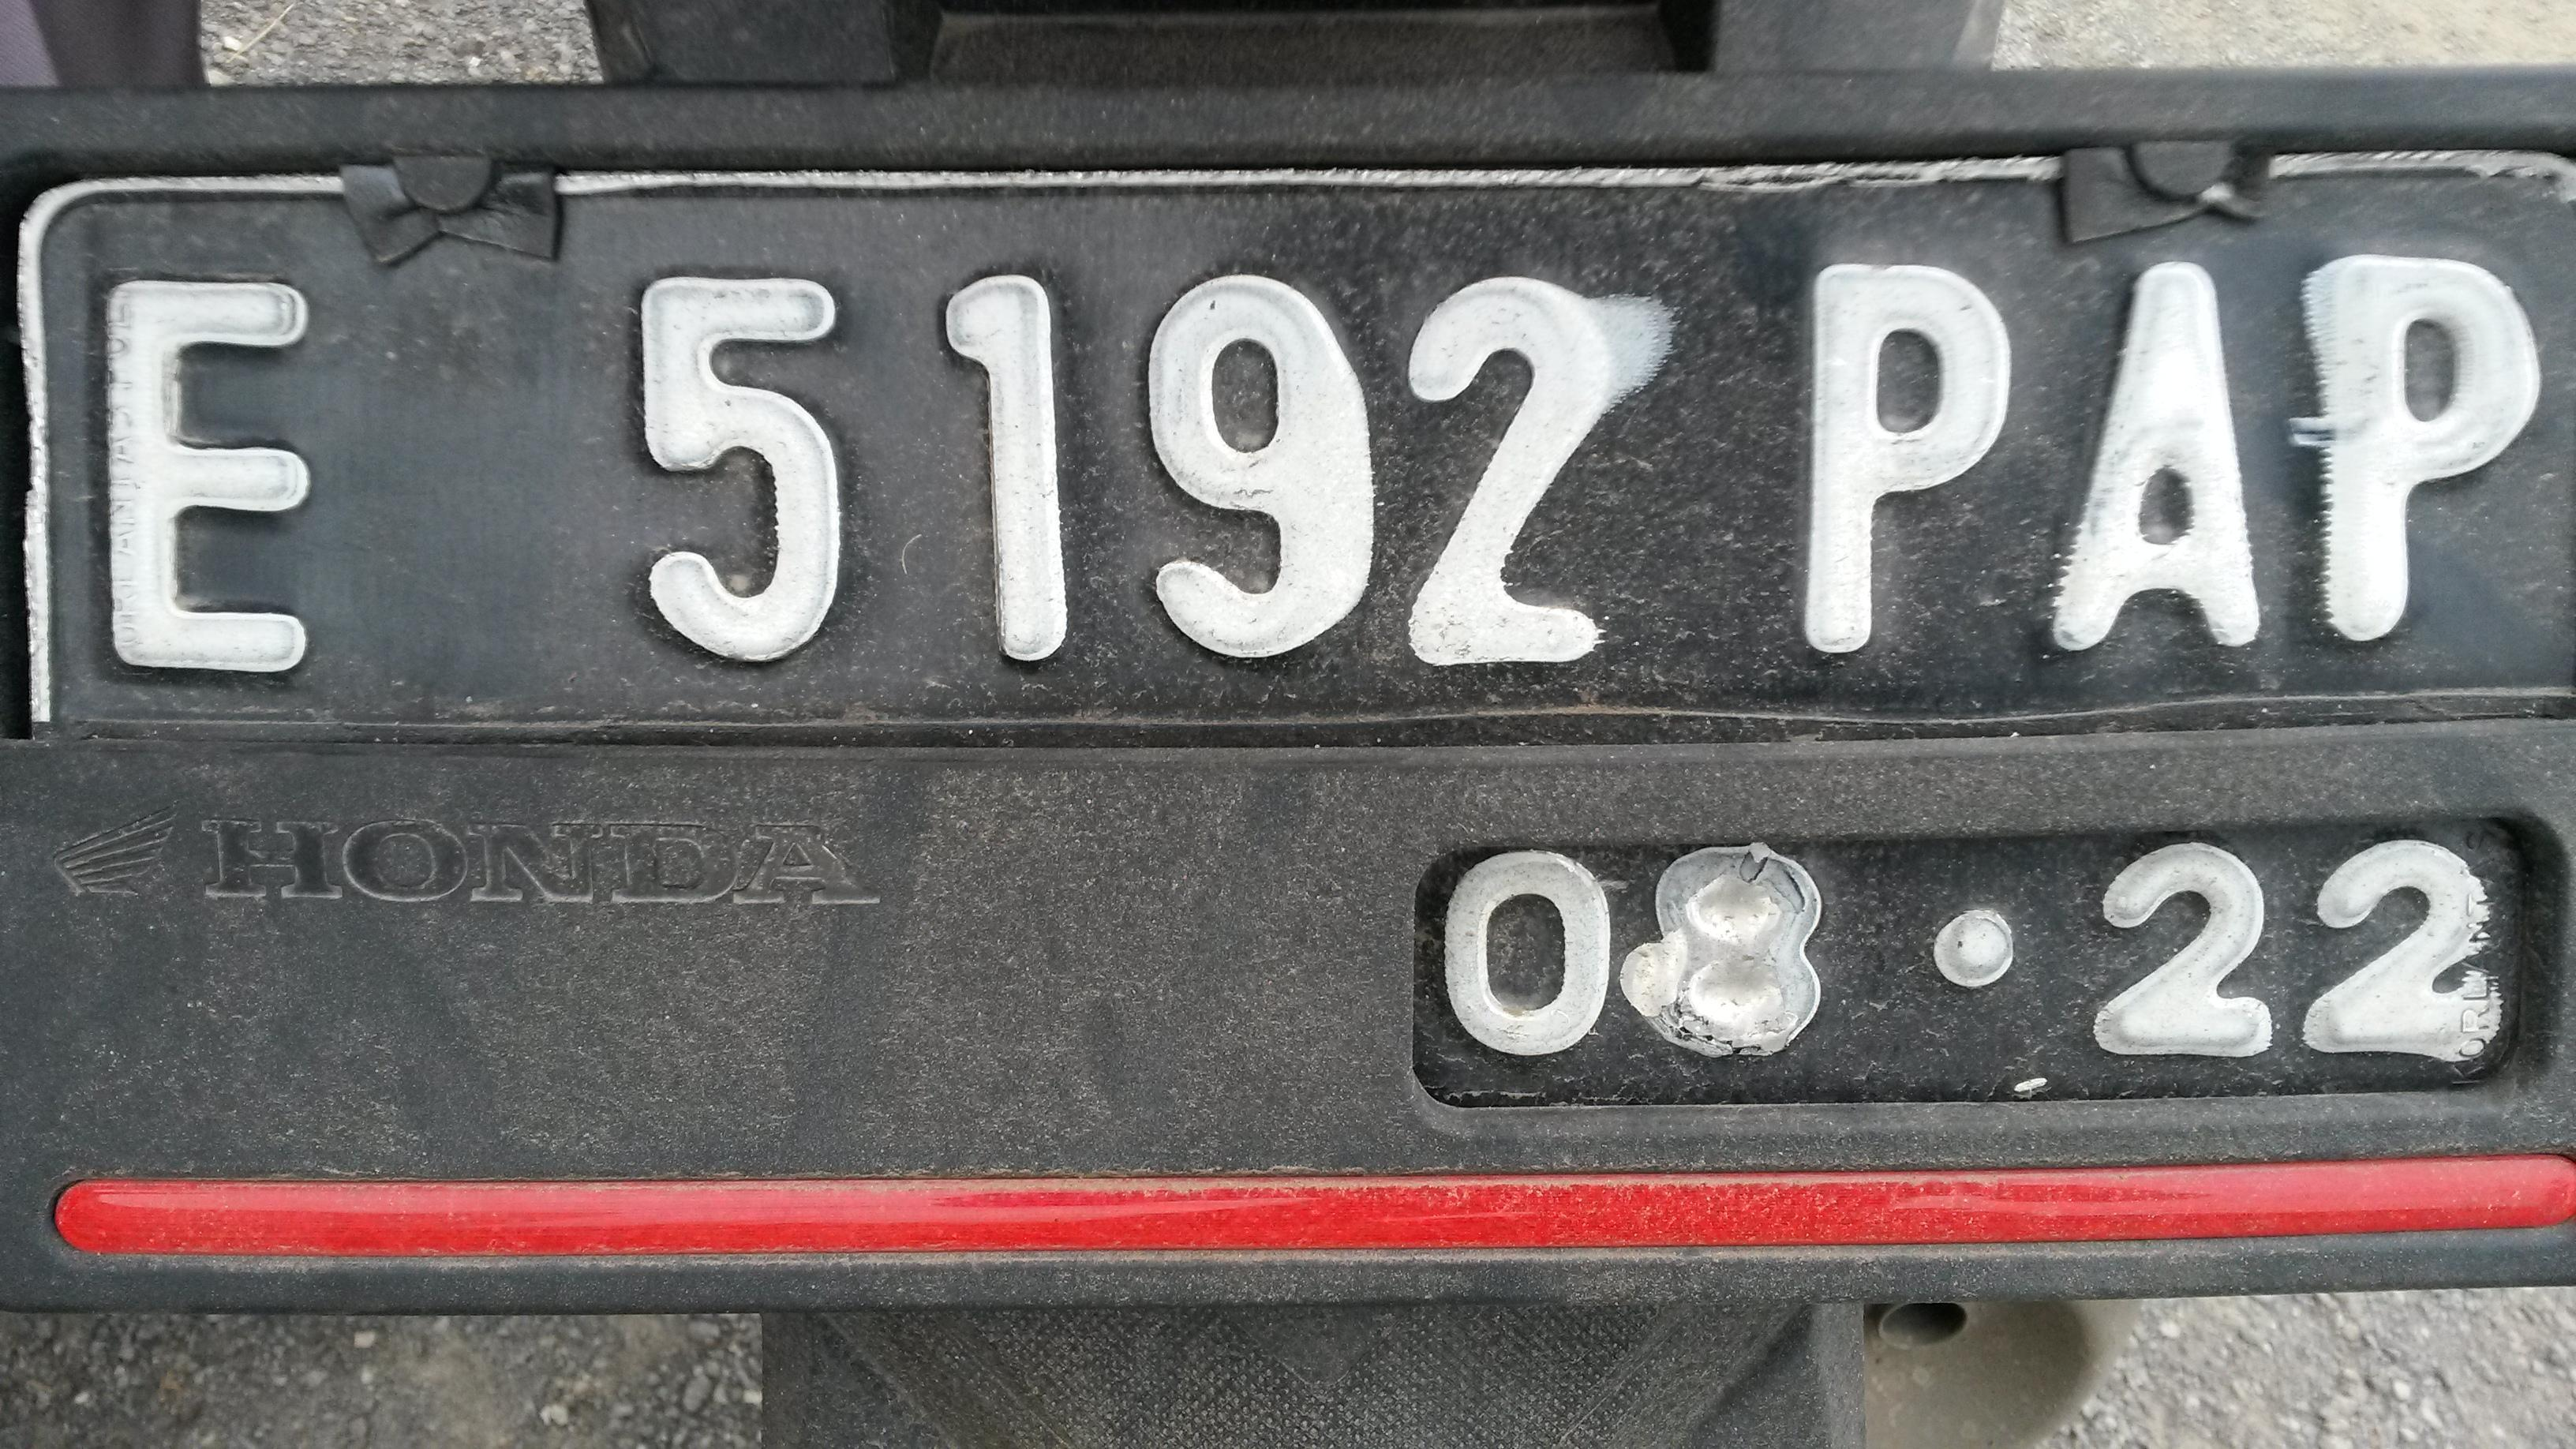clone-license-plate: (20, 153, 2574, 1130)
